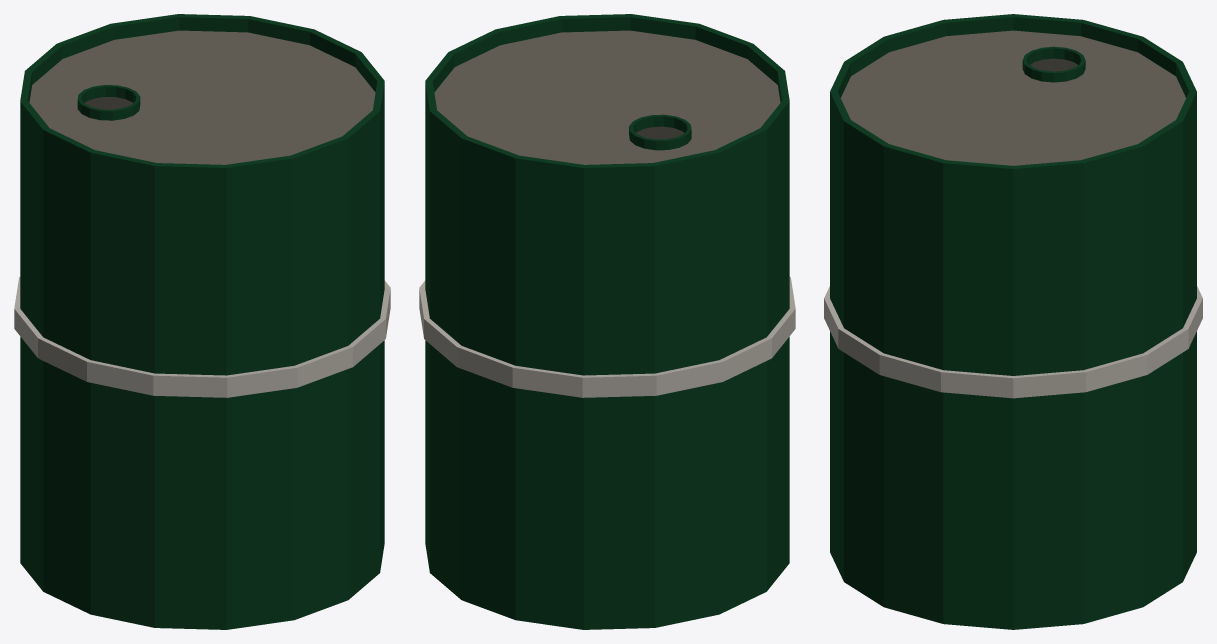
Rendered from BombBarrels.fbx.
3 renders of one model, left to right at view 1: azimuth 30°, elevation 25°; view 2: azimuth 150°, elevation 25°; view 3: azimuth 270°, elevation 25°, orthographic.
Parts seen in each view (by area): view 1: Barrel; view 2: Barrel; view 3: Barrel.
Part boxes in pixels (bbox=[...]): Barrel: bbox=[14, 14, 390, 629]; Barrel: bbox=[419, 14, 795, 629]; Barrel: bbox=[824, 14, 1202, 629].
Bounding box in the file's own units: 2.07 × 2.77 × 2.07.
